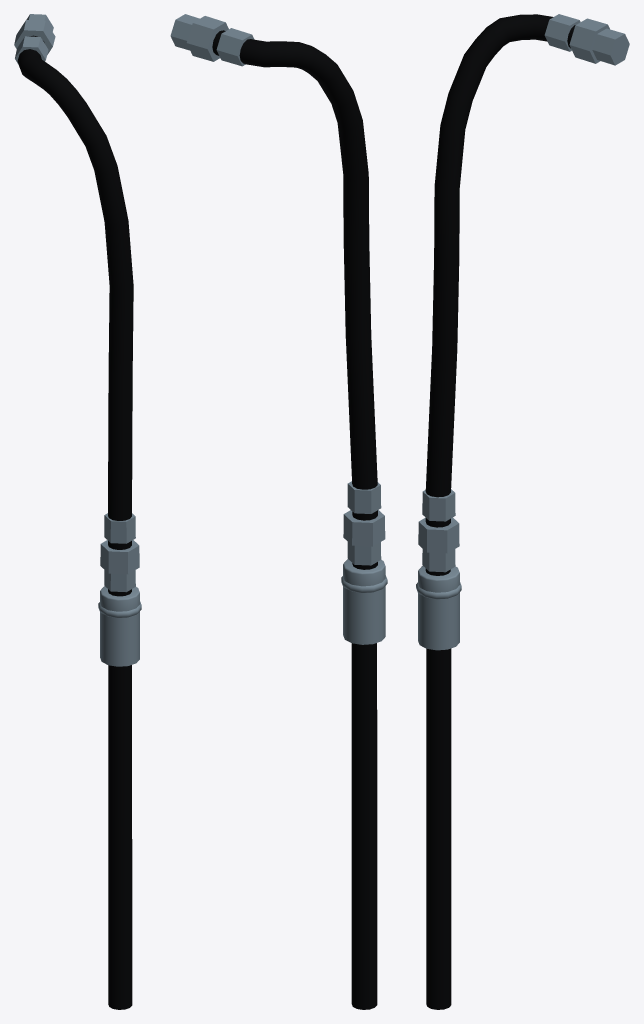
File: 线缆与接头.fbx
3 renders of one model, left to right at view 1: azimuth 90°, elevation 25°; view 2: azimuth 150°, elevation 25°; view 3: azimuth 330°, elevation 25°, orthographic. The views are drawn at different scales.
Visible parts, largest first — view 1: 线缆_弯曲护套, 线缆_下引段, 线缆_防水接头, 线缆与接头_连接件_38, 线缆与接头_连接件_39, 线缆与接头_连接件_49, 线缆与接头_连接件_40, 线缆与接头_连接件_41; view 2: 线缆_弯曲护套, 线缆_下引段, 线缆_防水接头, 线缆与接头_连接件_38, 线缆与接头_连接件_49, 线缆与接头_连接件_39, 线缆与接头_连接件_41, 线缆与接头_连接件_40, 线缆与接头_连接件_63; view 3: 线缆_弯曲护套, 线缆_下引段, 线缆_防水接头, 线缆与接头_连接件_38, 线缆与接头_连接件_63, 线缆与接头_连接件_49, 线缆与接头_连接件_39, 线缆与接头_连接件_41, 线缆与接头_连接件_40.
Part boxes in pixels (x1,y1,x2,y2): 线缆_弯曲护套: (17, 35, 133, 596); 线缆_下引段: (108, 665, 132, 1009); 线缆_防水接头: (98, 586, 141, 666); 线缆与接头_连接件_38: (100, 540, 139, 574); 线缆与接头_连接件_39: (104, 513, 135, 543); 线缆与接头_连接件_49: (14, 20, 55, 54); 线缆与接头_连接件_40: (104, 570, 135, 592); 线缆与接头_连接件_41: (15, 36, 48, 64); 线缆_弯曲护套: (212, 30, 377, 569); 线缆_下引段: (351, 643, 377, 1009); 线缆_防水接头: (341, 559, 387, 644); 线缆与接头_连接件_38: (343, 510, 385, 546); 线缆与接头_连接件_49: (186, 16, 228, 61); 线缆与接头_连接件_39: (347, 481, 381, 513); 线缆与接头_连接件_41: (216, 28, 254, 66); 线缆与接头_连接件_40: (347, 542, 381, 565); 线缆与接头_连接件_63: (170, 14, 199, 50); 线缆_弯曲护套: (425, 14, 575, 575); 线缆_下引段: (426, 648, 451, 1009); 线缆_防水接头: (416, 566, 461, 650); 线缆与接头_连接件_38: (418, 517, 459, 553); 线缆与接头_连接件_63: (592, 28, 629, 65); 线缆与接头_连接件_49: (569, 18, 609, 63); 线缆与接头_连接件_39: (422, 489, 455, 521); 线缆与接头_连接件_41: (544, 14, 580, 51); 线缆与接头_连接件_40: (422, 549, 455, 572).
Bounding box in the file's own units: 0.0644 × 0.3759 × 0.0468.
